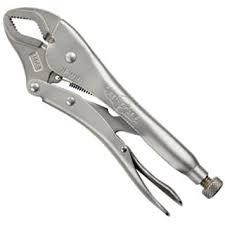pliers: (2, 6, 222, 217)
